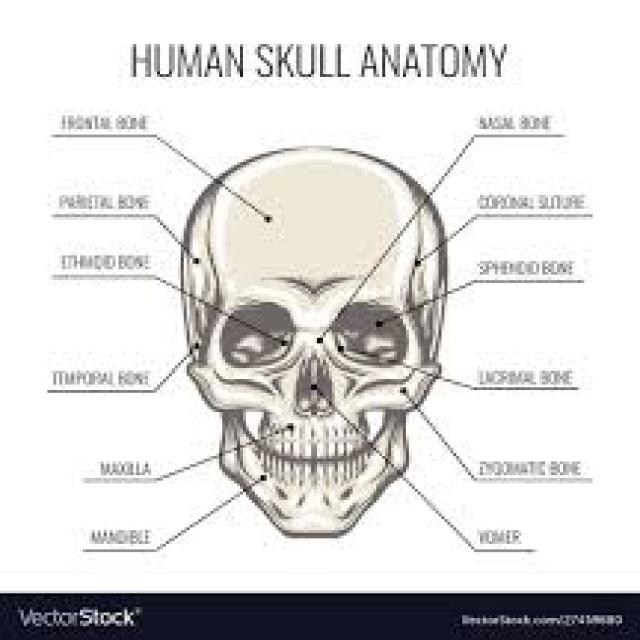skull: (171, 133, 460, 547)
